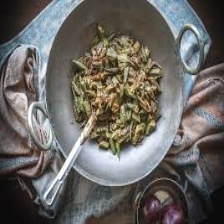sabzi: (66, 19, 168, 162)
